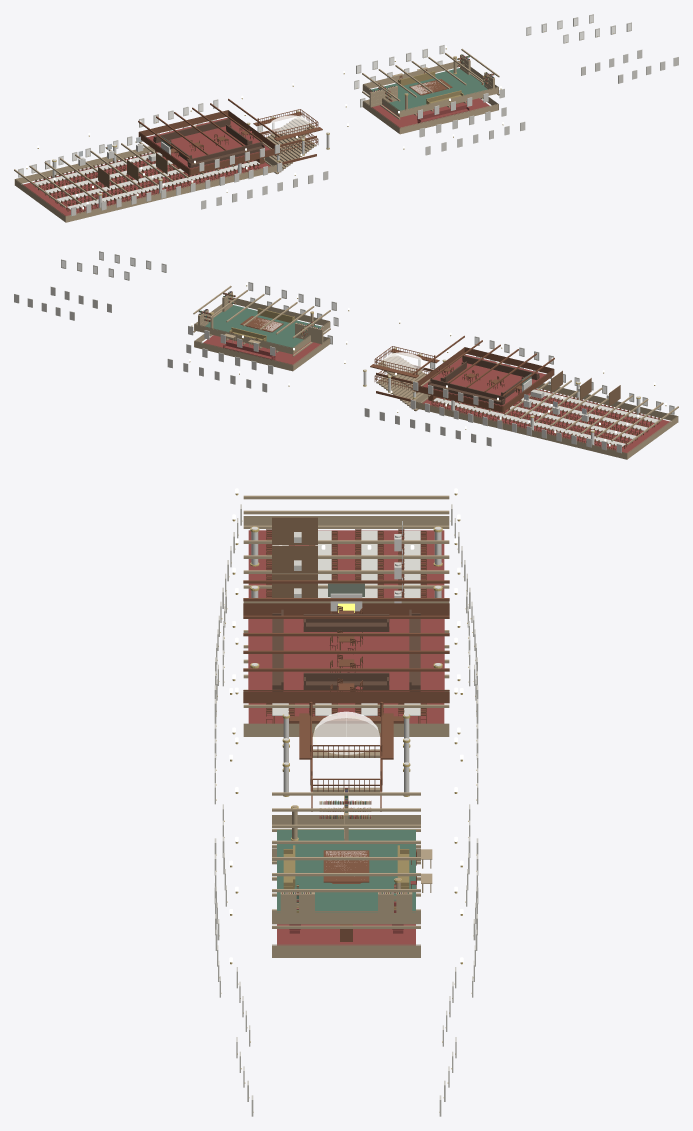
File: Interiors_Public.glb
3 views of the same model, one above another, from view 1: azimuth 30°, elevation 25°; view 2: azimuth 150°, elevation 25°; view 3: azimuth 270°, elevation 25° (orthographic). The views are drawn at different scales.
Visible parts, largest first — view 1: Dining_Saloon_1C, Smoking_Saloon_1C, Interior_Windows, Library, Grand_Staircase, Music_Room, Lavatories; view 2: Dining_Saloon_1C, Smoking_Saloon_1C, Interior_Windows, Library, Grand_Staircase, Music_Room, Lavatories; view 3: Smoking_Saloon_1C, Dining_Saloon_1C, Library, Grand_Staircase, Music_Room, Interior_Windows, Lavatories, Corridor_Lamps.
Part boxes in pixels (left/top/right/bottom): Dining_Saloon_1C: left=14, top=118, right=280, bottom=222; Smoking_Saloon_1C: left=138, top=98, right=280, bottom=175; Interior_Windows: left=18, top=14, right=678, bottom=216; Library: left=362, top=48, right=499, bottom=117; Grand_Staircase: left=246, top=109, right=329, bottom=174; Music_Room: left=362, top=71, right=499, bottom=134; Lavatories: left=78, top=136, right=168, bottom=188; Dining_Saloon_1C: left=412, top=355, right=678, bottom=459; Smoking_Saloon_1C: left=412, top=335, right=554, bottom=412; Interior_Windows: left=14, top=251, right=674, bottom=453; Library: left=193, top=285, right=330, bottom=354; Grand_Staircase: left=363, top=346, right=446, bottom=411; Music_Room: left=193, top=308, right=330, bottom=371; Lavatories: left=523, top=370, right=620, bottom=421; Smoking_Saloon_1C: left=243, top=580, right=449, bottom=703; Dining_Saloon_1C: left=243, top=495, right=449, bottom=736; Library: left=272, top=788, right=432, bottom=924; Grand_Staircase: left=282, top=702, right=410, bottom=811; Music_Room: left=272, top=828, right=420, bottom=957; Interior_Windows: left=214, top=504, right=478, bottom=1116; Lavatories: left=272, top=517, right=402, bottom=603; Corridor_Lamps: left=229, top=488, right=463, bottom=964.
Size of the model in its own units: 355 by 29.71 by 65.71.
